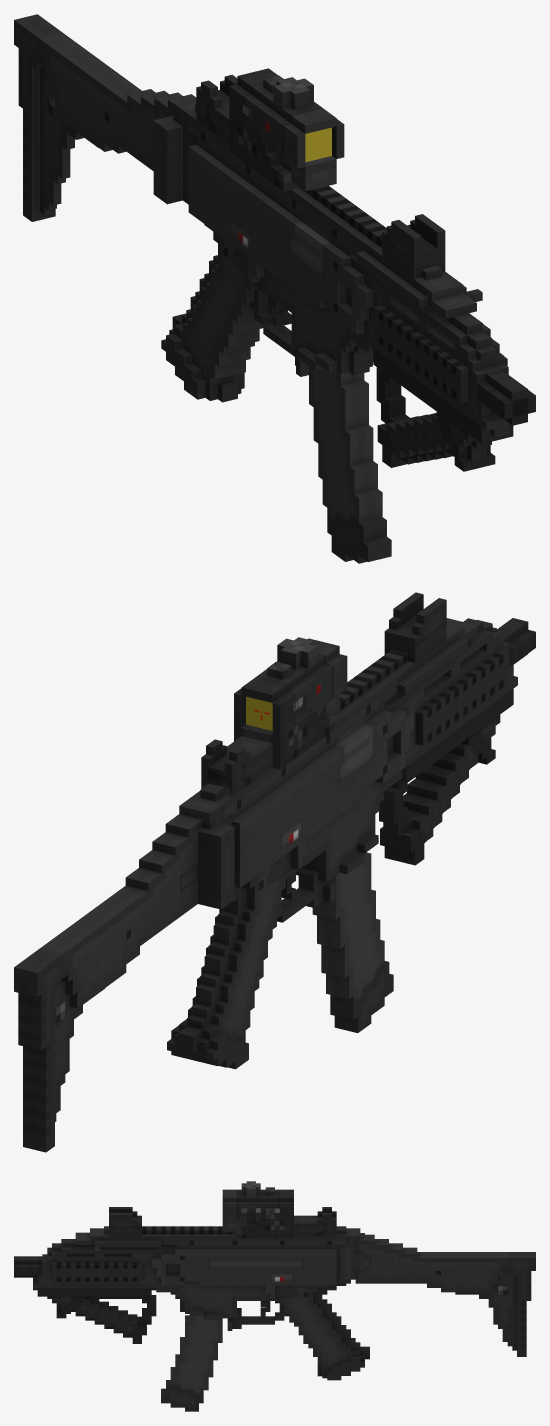
File: RD_SCORPION_EVO3.glb
The picture shows the model from 3 angles, top to bottom: view 1: azimuth 30°, elevation 25°; view 2: azimuth 150°, elevation 25°; view 3: azimuth 270°, elevation 25°; orthographic projection. The views are drawn at different scales.
Visible parts, largest first — view 1: SCORPION_EVO3, SCORPION_EVO3_CLIP, SCOPE_TASCO, GRIP2, SCORPION_EVO3_SCOPE, SCOPE_EOTECH; view 2: SCORPION_EVO3, SCORPION_EVO3_CLIP, GRIP2, SCOPE_TASCO, SCORPION_EVO3_SCOPE, SCOPE_EOTECH; view 3: SCORPION_EVO3, SCORPION_EVO3_CLIP, GRIP2, SCOPE_TASCO, SCORPION_EVO3_SCOPE, SCOPE_EOTECH.
Part boxes in pixels (<box>): SCORPION_EVO3: <box>14,14,535,436</box>; SCORPION_EVO3_CLIP: <box>309,366,391,563</box>; SCOPE_TASCO: <box>229,68,344,191</box>; GRIP2: <box>373,348,513,471</box>; SCORPION_EVO3_SCOPE: <box>196,74,445,279</box>; SCOPE_EOTECH: <box>229,101,336,191</box>; SCORPION_EVO3: <box>14,618,535,1152</box>; SCORPION_EVO3_CLIP: <box>312,852,393,1032</box>; GRIP2: <box>379,689,513,865</box>; SCOPE_TASCO: <box>234,637,347,759</box>; SCORPION_EVO3_SCOPE: <box>201,592,446,796</box>; SCOPE_EOTECH: <box>234,694,339,769</box>; SCORPION_EVO3: <box>14,1226,535,1380</box>; SCORPION_EVO3_CLIP: <box>161,1315,222,1411</box>; GRIP2: <box>37,1288,156,1343</box>; SCOPE_TASCO: <box>222,1181,293,1238</box>; SCORPION_EVO3_SCOPE: <box>109,1207,336,1236</box>; SCOPE_EOTECH: <box>222,1208,293,1238</box>.
Size of the model in its own units: 0.0886 by 0.5118 by 1.08.
Materials: 8 (8 with a texture image).
